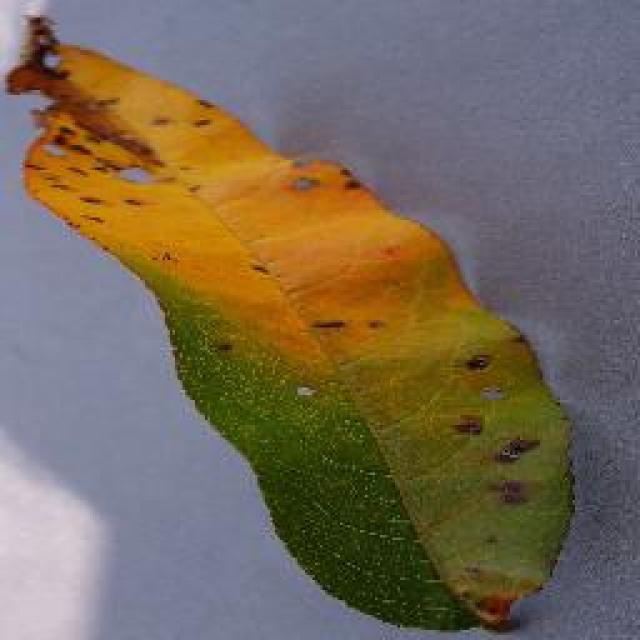Peach_Bacterial_Spot: (136, 93, 536, 525)
